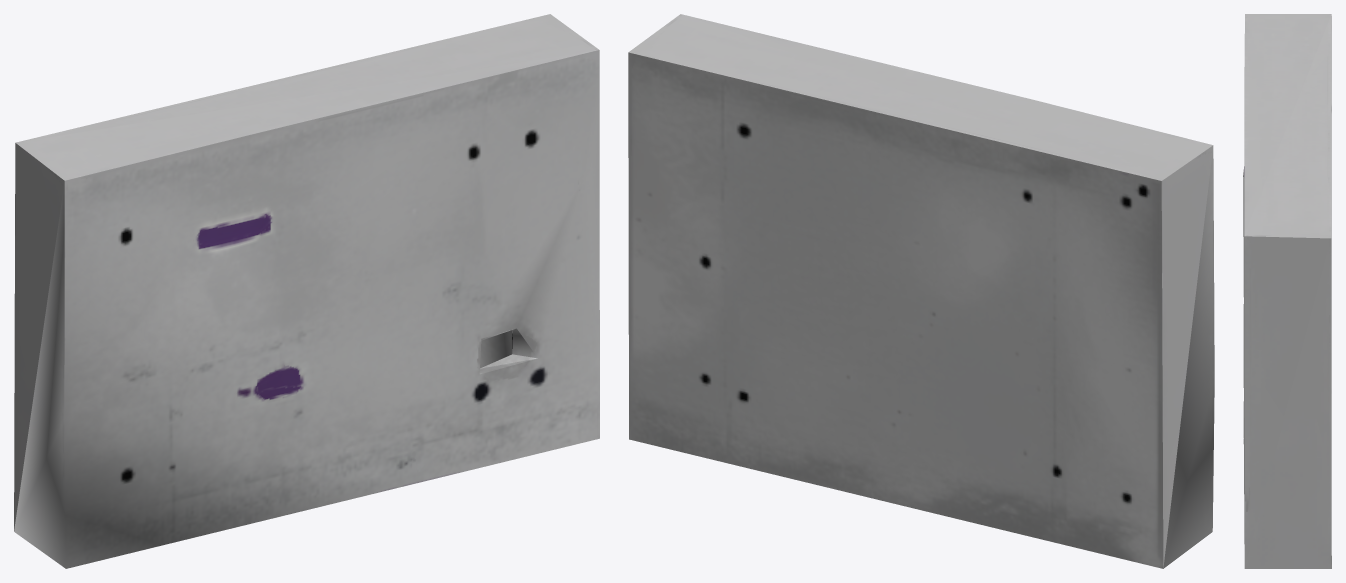
Rendered from concrete-wall.glb.
3 renders of one model, left to right at view 1: azimuth 30°, elevation 25°; view 2: azimuth 150°, elevation 25°; view 3: azimuth 270°, elevation 25°, orthographic. The views are drawn at different scales.
Visible parts, largest first — view 1: geometry_0.001; view 2: geometry_0.001; view 3: geometry_0.001.
Part boxes in pixels (x1,y1,x2,y2): geometry_0.001: [14, 14, 599, 568]; geometry_0.001: [628, 14, 1214, 568]; geometry_0.001: [1243, 14, 1331, 568].
Bounding box in the file's own units: 0.9946 × 0.6894 × 0.1665.
Materials: 1 (1 with a texture image).
